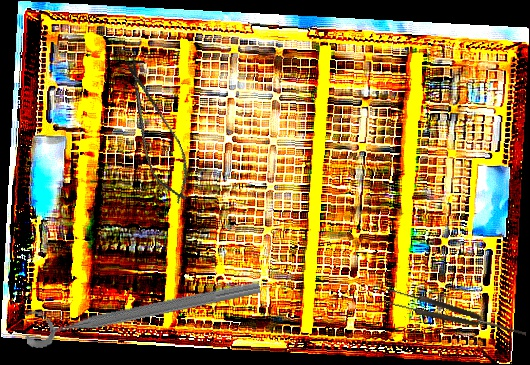Fixation Ring: (20, 260, 263, 351)
Micro Scissor: (110, 52, 201, 209)
Tissue Forceps: (382, 285, 529, 345)
